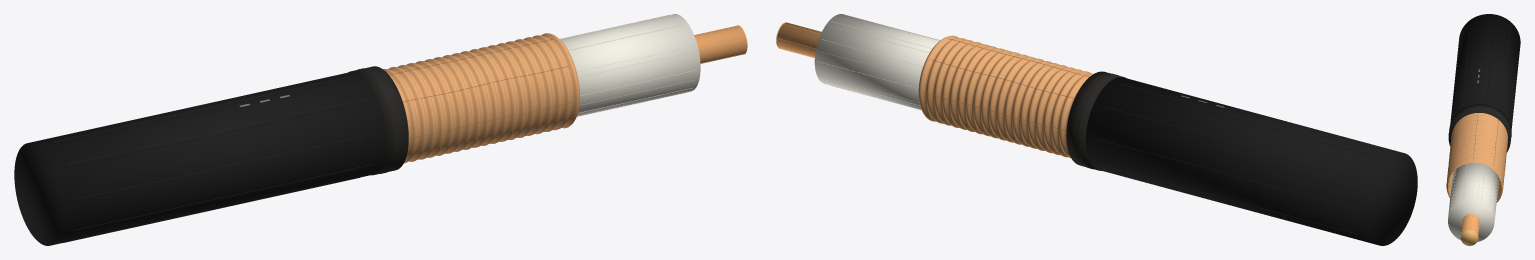
The model's file is rf-fsj1-macro.glb.
3 renders of one model, left to right at view 1: azimuth 30°, elevation 25°; view 2: azimuth 150°, elevation 25°; view 3: azimuth 270°, elevation 25°, orthographic. The views are drawn at different scales.
Parts seen in each view (by area): view 1: macro hardline jacket body, annular corrugated solid shield, macro foam dielectric exposed core, hardline jacket cut wall, polished solid center conductor, rounded jacket cut lip; view 2: macro hardline jacket body, annular corrugated solid shield, macro foam dielectric exposed core, hardline jacket cut wall, polished solid center conductor, rounded jacket cut lip; view 3: macro hardline jacket body, annular corrugated solid shield, macro foam dielectric exposed core, hardline jacket cut wall, polished solid center conductor, polished conductor cut face glow, rounded jacket cut lip, jacket axial surface line 02.
Part boxes in pixels (left/top/right/bottom): macro hardline jacket body: left=14, top=71, right=386, bottom=245; annular corrugated solid shield: left=383, top=33, right=579, bottom=163; macro foam dielectric exposed core: left=560, top=14, right=700, bottom=116; hardline jacket cut wall: left=348, top=66, right=408, bottom=175; polished solid center conductor: left=694, top=25, right=746, bottom=63; rounded jacket cut lip: left=357, top=68, right=398, bottom=173; macro hardline jacket body: left=1085, top=77, right=1417, bottom=245; annular corrugated solid shield: left=918, top=35, right=1093, bottom=157; macro foam dielectric exposed core: left=814, top=14, right=939, bottom=109; hardline jacket cut wall: left=1066, top=71, right=1126, bottom=170; polished solid center conductor: left=777, top=22, right=821, bottom=57; rounded jacket cut lip: left=1075, top=73, right=1118, bottom=169; macro hardline jacket body: left=1450, top=14, right=1520, bottom=130; annular corrugated solid shield: left=1446, top=113, right=1507, bottom=202; macro foam dielectric exposed core: left=1448, top=163, right=1498, bottom=241; hardline jacket cut wall: left=1448, top=104, right=1511, bottom=152; polished solid center conductor: left=1461, top=214, right=1479, bottom=236; polished conductor cut face glow: left=1460, top=230, right=1478, bottom=245; rounded jacket cut lip: left=1448, top=106, right=1511, bottom=136; jacket axial surface line 02: left=1502, top=26, right=1510, bottom=107.
Bounding box in the file's own units: 11.61 × 1.56 × 1.85.
